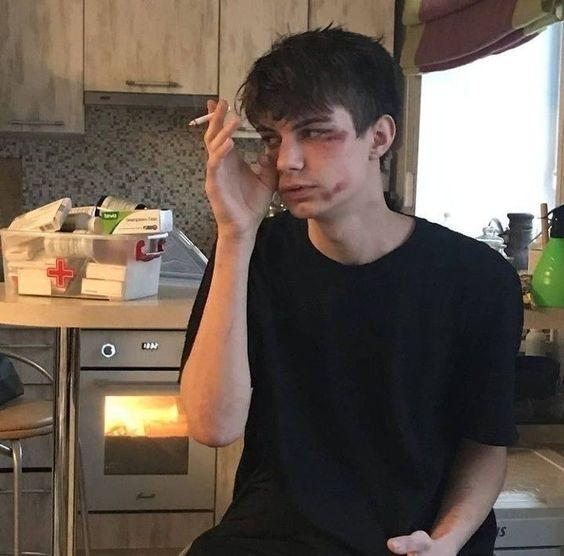cigarette: (189, 111, 216, 127)
